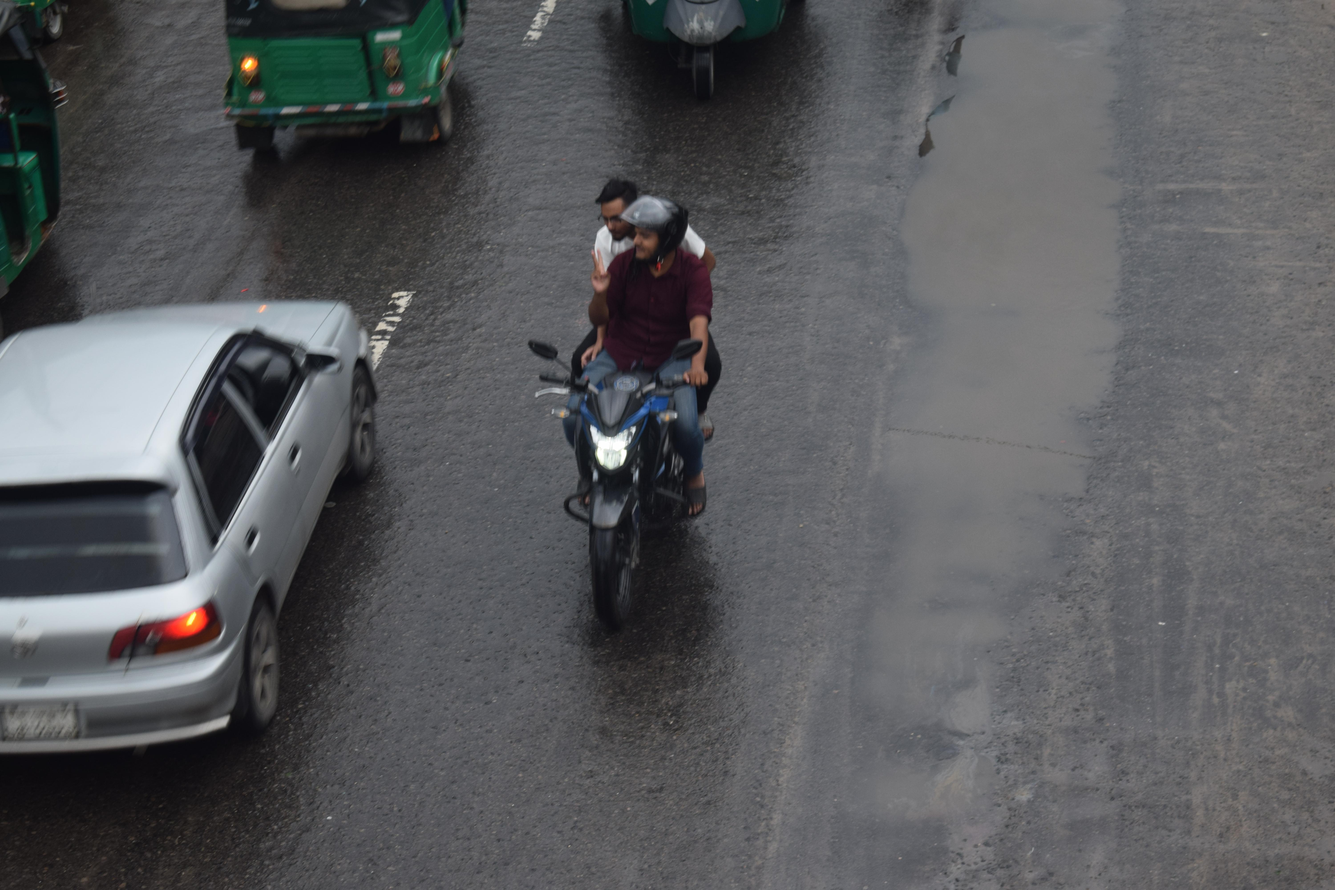Bike: (474, 140, 787, 686)
Car: (0, 267, 421, 781)
